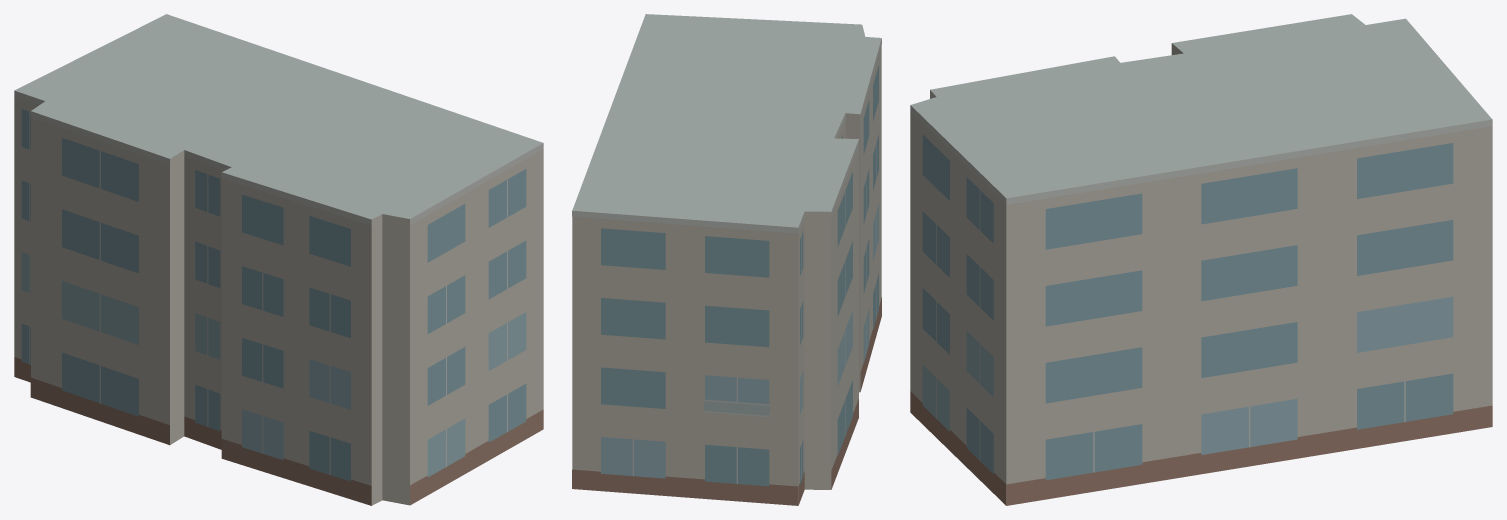
The model's file is survey-upis-32861271.glb.
The picture shows the model from 3 angles, left to right: view 1: azimuth 30°, elevation 25°; view 2: azimuth 150°, elevation 25°; view 3: azimuth 270°, elevation 25°; orthographic projection. The views are drawn at different scales.
Visible parts, largest first — view 1: survey-upis-32861271.tmp; view 2: survey-upis-32861271.tmp; view 3: survey-upis-32861271.tmp.
Boxes of the visible parts, x1=… form: survey-upis-32861271.tmp: x1=14, y1=14, x2=543, y2=505; survey-upis-32861271.tmp: x1=572, y1=14, x2=881, y2=505; survey-upis-32861271.tmp: x1=910, y1=14, x2=1492, y2=505.
Size of the model in its own units: 14.67 by 11.4 by 19.57.
